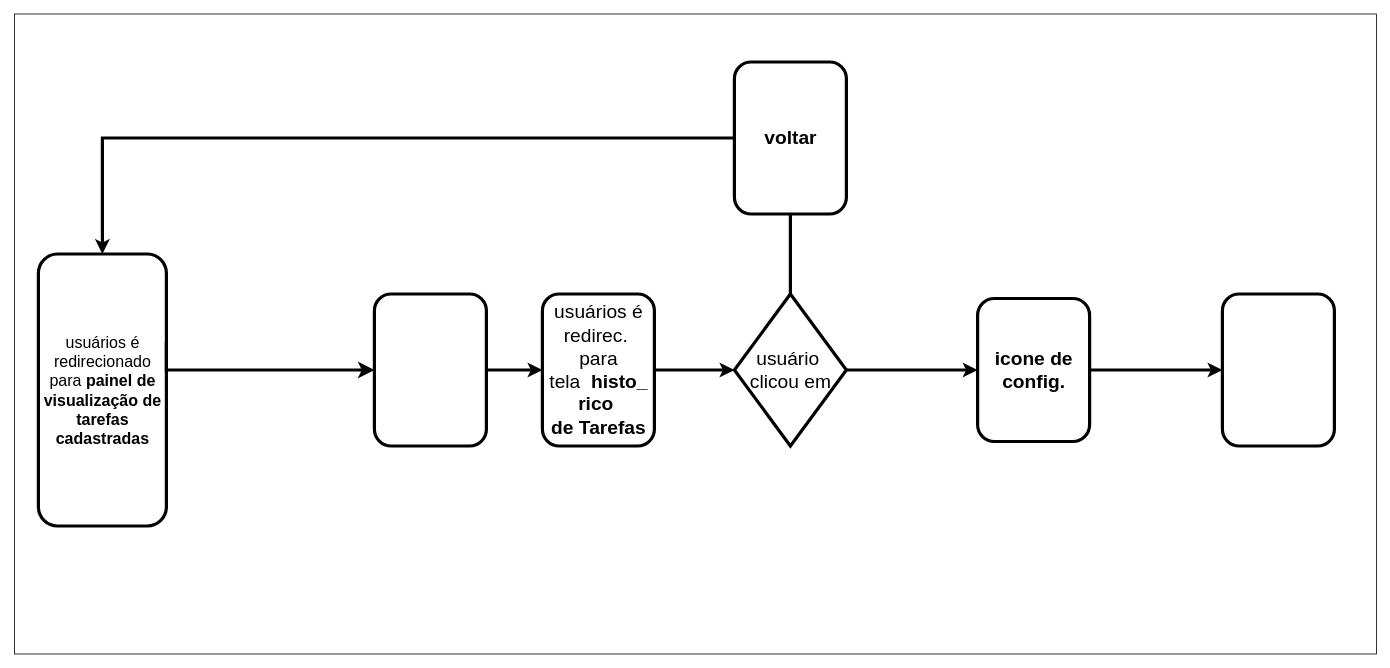
Image size: 1390x668. Some labels were removed from this diagram. Here are the shapes that lost their labels. From the top down, the centre of each, then its label:
[430,369]: na tela ao clicar sobre o ver historico
[1278,369]: usuário é redirec. para tela de config. usuário
